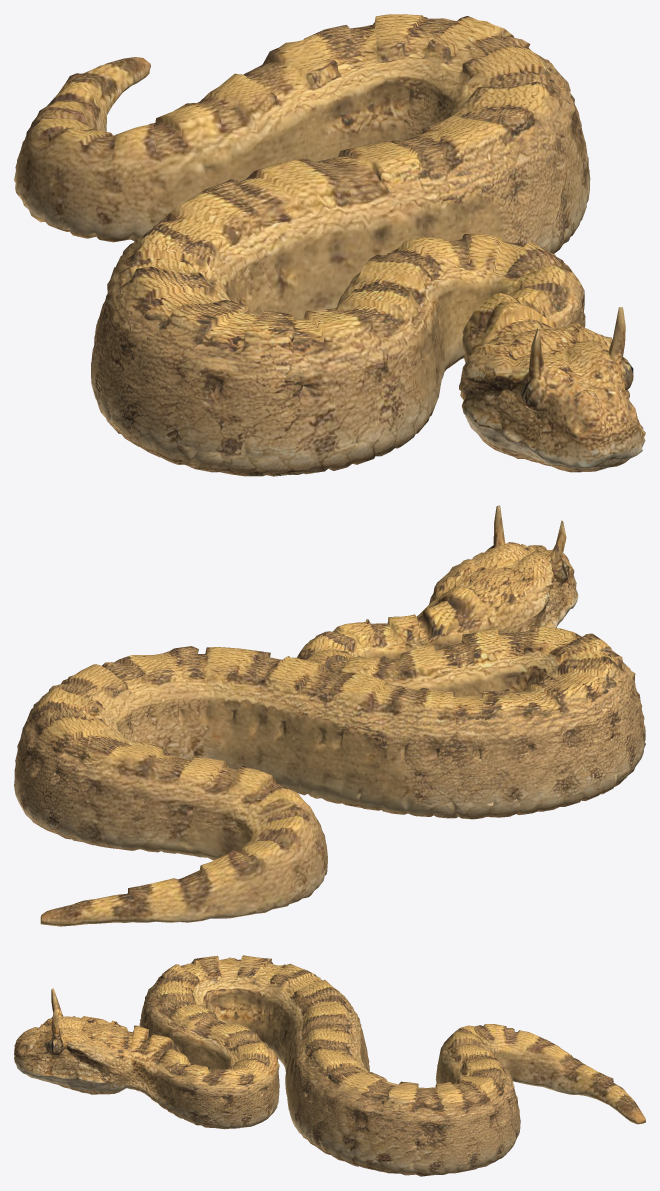
File: viper.glb
The picture shows the model from 3 angles, top to bottom: view 1: azimuth 30°, elevation 25°; view 2: azimuth 150°, elevation 25°; view 3: azimuth 270°, elevation 25°; orthographic projection. The views are drawn at different scales.
Parts seen in each view (by area): view 1: tripo_node_ab088040-b73f-4577-b6ae-aad1ce8da104; view 2: tripo_node_ab088040-b73f-4577-b6ae-aad1ce8da104; view 3: tripo_node_ab088040-b73f-4577-b6ae-aad1ce8da104.
Part boxes in pixels (<box>): tripo_node_ab088040-b73f-4577-b6ae-aad1ce8da104: <box>14,14,645,476</box>; tripo_node_ab088040-b73f-4577-b6ae-aad1ce8da104: <box>14,505,645,926</box>; tripo_node_ab088040-b73f-4577-b6ae-aad1ce8da104: <box>14,955,645,1176</box>.
Bounding box in the file's own units: 0.6104 × 0.1736 × 1.
1 material, 1 textured.
